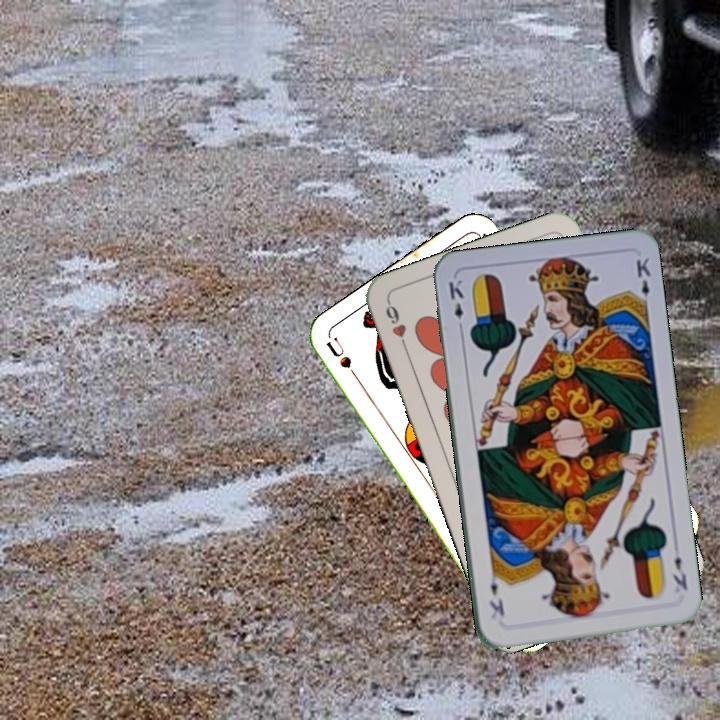EK: (444, 275, 467, 335), (668, 552, 690, 593)
H9: (381, 298, 411, 355)
SU: (322, 334, 365, 388)
